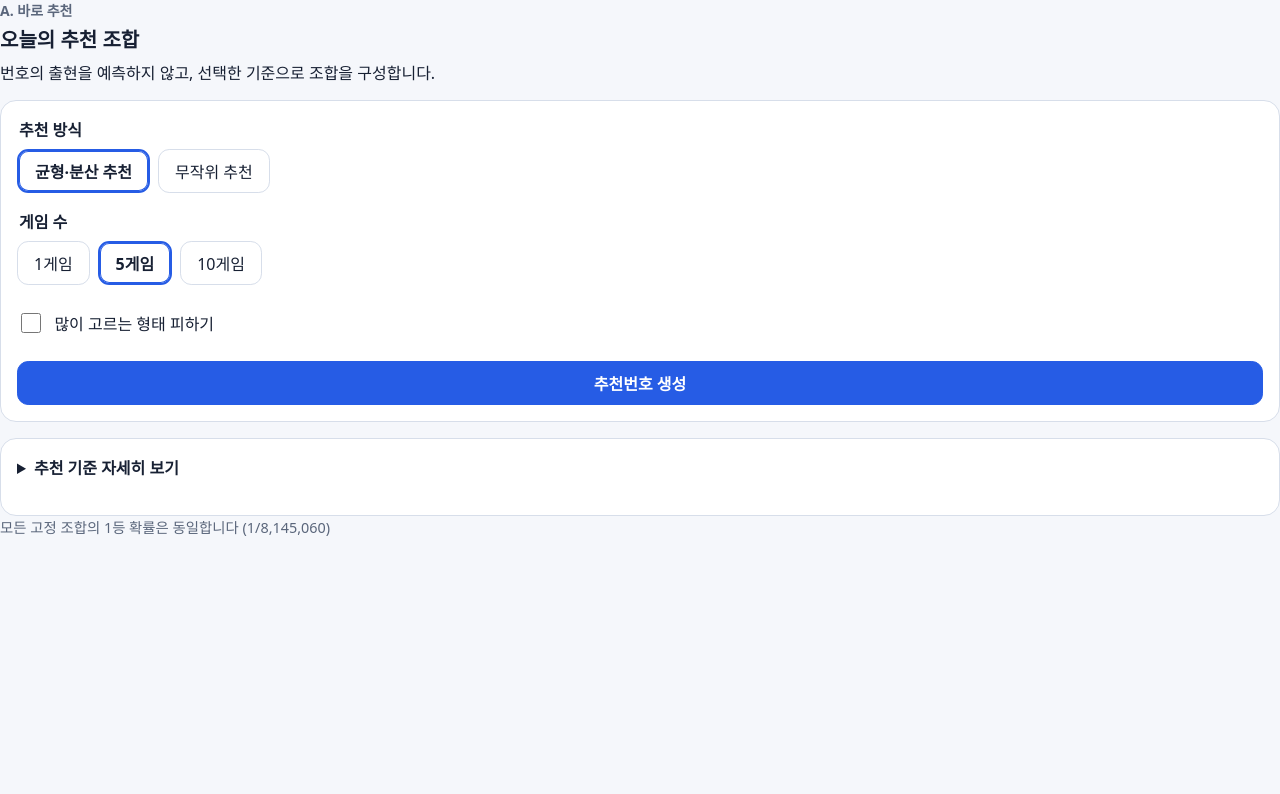
Scenario: generates the selected 10-game portfolio
The width and height of the screenshot is (1280, 794).
What coordinates should you click on to do the following:
click the button "10게임"
I would click on:
 (221, 263)
Its box is [180,241,262,285].
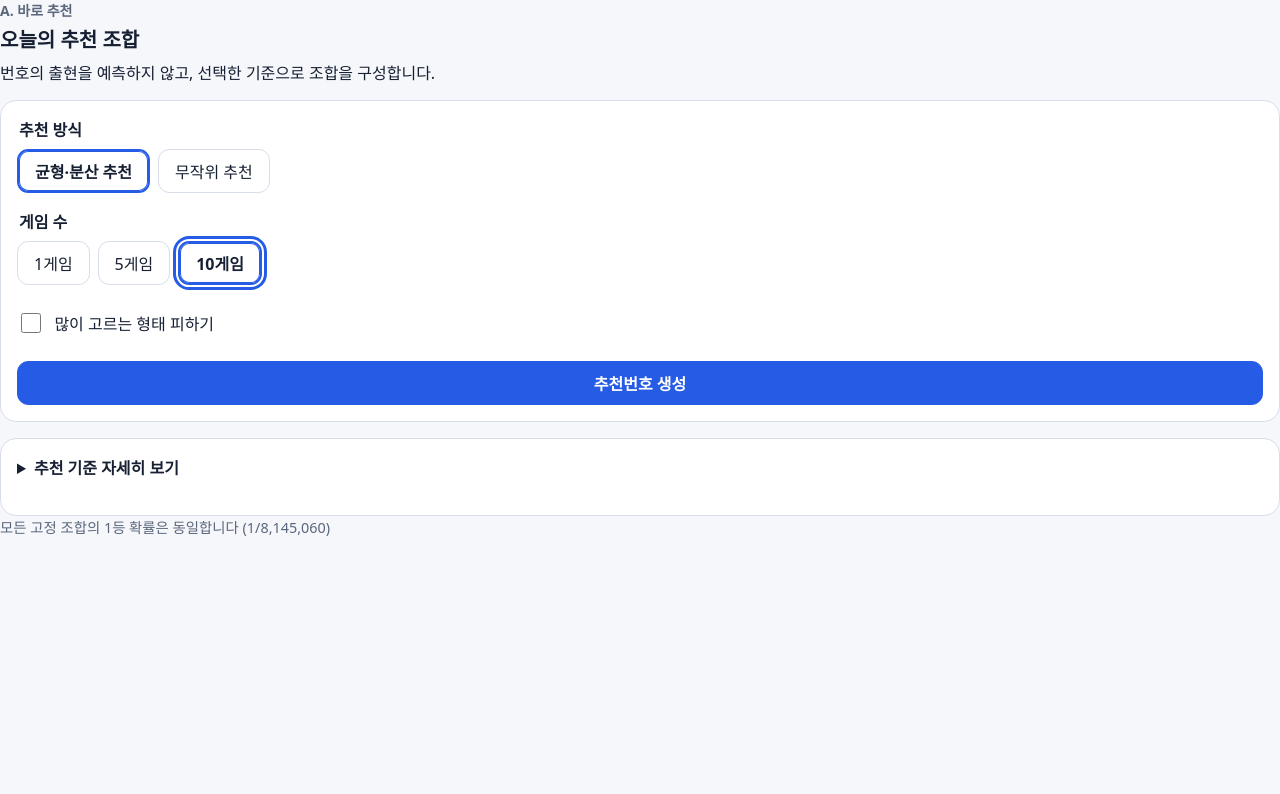
What coordinates should you click on to do the following:
click the button "추천번호 생성"
I would click on:
 (640, 383)
Its box is [17,361,1263,405].
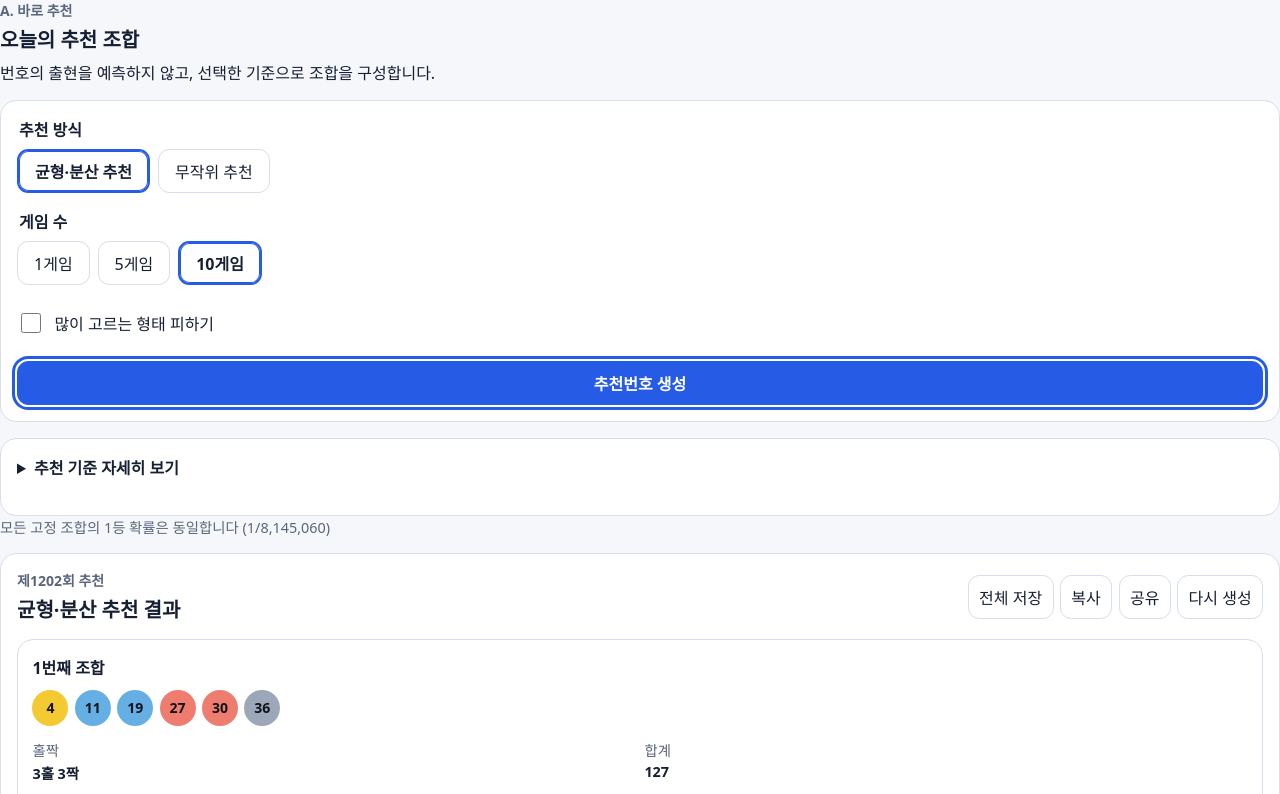
expect the number of list items named "추천 조합" is 10: met
